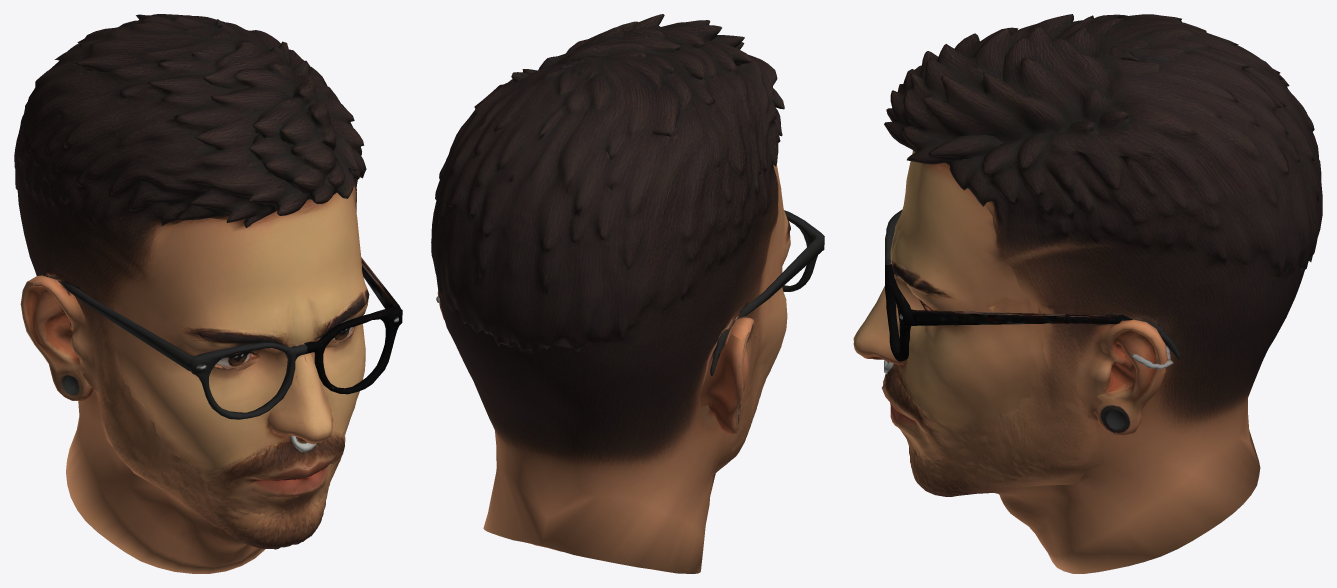
The model's file is LUCASLOWPOLYBLENDER.glb.
3 views of the same model, side by side, from view 1: azimuth 30°, elevation 25°; view 2: azimuth 150°, elevation 25°; view 3: azimuth 270°, elevation 25° (orthographic).
Parts seen in each view (by area): view 1: tripo_part_0, tripo_part_1, tripo_part_4, tripo_part_5, tripo_part_3, tripo_part_7, tripo_part_9, tripo_part_8, tripo_part_15, tripo_part_2, tripo_part_16, tripo_part_10 (+4 smaller); view 2: tripo_part_0, tripo_part_4, tripo_part_3, tripo_part_8, tripo_part_1, tripo_part_9, tripo_part_5, tripo_part_25; view 3: tripo_part_0, tripo_part_4, tripo_part_1, tripo_part_3, tripo_part_6, tripo_part_7, tripo_part_10, tripo_part_11, tripo_part_13, tripo_part_15, tripo_part_2, tripo_part_16.
Part boxes in pixels (<box>): tripo_part_0: <box>14,14,366,414</box>; tripo_part_1: <box>111,191,368,516</box>; tripo_part_4: <box>23,228,265,573</box>; tripo_part_5: <box>102,327,237,532</box>; tripo_part_3: <box>202,37,336,150</box>; tripo_part_7: <box>249,132,358,204</box>; tripo_part_9: <box>63,283,307,419</box>; tripo_part_8: <box>20,275,96,400</box>; tripo_part_15: <box>267,353,333,444</box>; tripo_part_2: <box>228,490,327,549</box>; tripo_part_16: <box>222,434,345,484</box>; tripo_part_10: <box>304,257,402,394</box>; tripo_part_0: <box>431,29,784,410</box>; tripo_part_4: <box>438,292,727,573</box>; tripo_part_3: <box>538,14,721,69</box>; tripo_part_8: <box>700,326,750,434</box>; tripo_part_1: <box>757,164,790,396</box>; tripo_part_9: <box>741,210,824,316</box>; tripo_part_5: <box>731,309,764,453</box>; tripo_part_25: <box>712,433,740,476</box>; tripo_part_0: <box>886,14,1322,353</box>; tripo_part_4: <box>948,264,1304,573</box>; tripo_part_1: <box>873,150,1047,463</box>; tripo_part_3: <box>923,25,1113,142</box>; tripo_part_6: <box>934,323,1104,492</box>; tripo_part_7: <box>884,51,1003,164</box>; tripo_part_10: <box>885,264,1132,361</box>; tripo_part_11: <box>1094,323,1165,435</box>; tripo_part_13: <box>1076,317,1167,420</box>; tripo_part_15: <box>853,286,903,364</box>; tripo_part_2: <box>899,428,953,496</box>; tripo_part_16: <box>882,374,933,434</box>.
Size of the model in its own units: 0.6201 by 1 by 0.8169.
37 materials, 37 textured.
